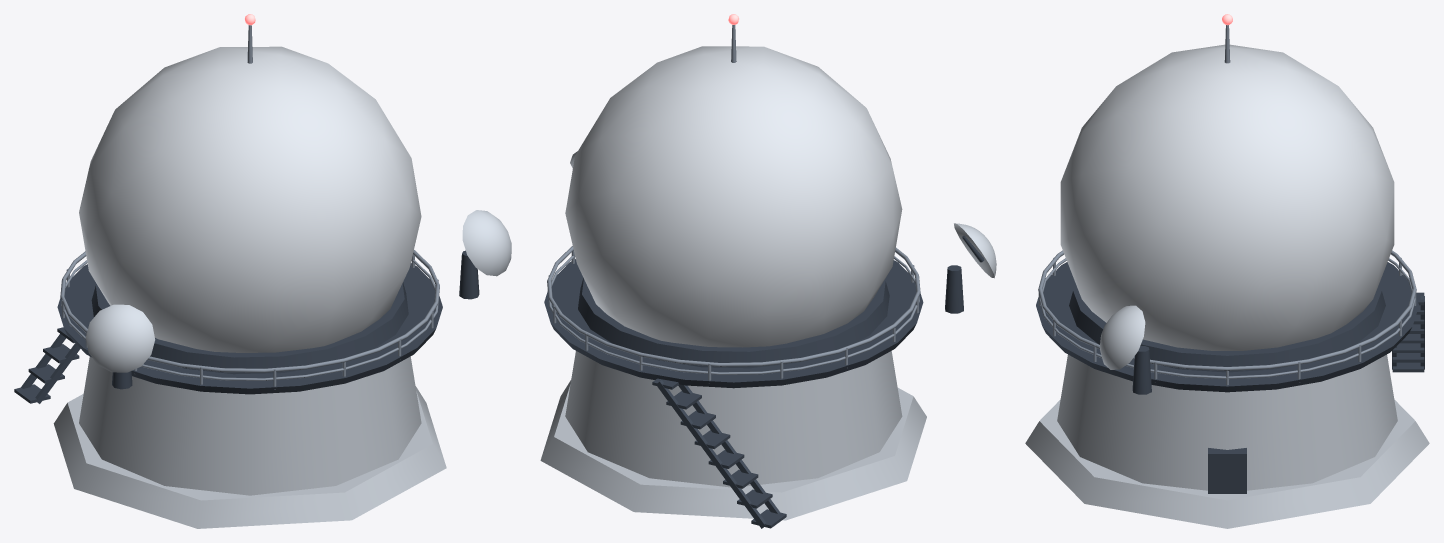
Rendered from tracking_radome.glb.
3 views of the same model, side by side, from view 1: azimuth 30°, elevation 25°; view 2: azimuth 150°, elevation 25°; view 3: azimuth 270°, elevation 25° (orthographic).
Parts seen in each view (by area): view 1: TrackingRadomeStation_GeodesicCompositeFiberglass, TrackingRadomeStation_RadomePedestalConcrete, TrackingRadomeStation_RadomeSteelWork, TrackingRadomeStation_TelemetryDishWhite, TrackingRadomeStation_CatwalkRailSteel; view 2: TrackingRadomeStation_GeodesicCompositeFiberglass, TrackingRadomeStation_RadomePedestalConcrete, TrackingRadomeStation_RadomeSteelWork, TrackingRadomeStation_CatwalkRailSteel, TrackingRadomeStation_TelemetryDishWhite; view 3: TrackingRadomeStation_GeodesicCompositeFiberglass, TrackingRadomeStation_RadomePedestalConcrete, TrackingRadomeStation_RadomeSteelWork, TrackingRadomeStation_CatwalkRailSteel, TrackingRadomeStation_TelemetryDishWhite.
Part boxes in pixels (left/top/right/bottom): TrackingRadomeStation_GeodesicCompositeFiberglass: left=79, top=46, right=421, bottom=352; TrackingRadomeStation_RadomePedestalConcrete: left=53, top=356, right=446, bottom=528; TrackingRadomeStation_RadomeSteelWork: left=14, top=250, right=479, bottom=403; TrackingRadomeStation_TelemetryDishWhite: left=85, top=210, right=511, bottom=372; TrackingRadomeStation_CatwalkRailSteel: left=60, top=25, right=439, bottom=389; TrackingRadomeStation_GeodesicCompositeFiberglass: left=565, top=46, right=902, bottom=347; TrackingRadomeStation_RadomePedestalConcrete: left=540, top=351, right=926, bottom=520; TrackingRadomeStation_RadomeSteelWork: left=544, top=235, right=984, bottom=528; TrackingRadomeStation_CatwalkRailSteel: left=547, top=25, right=920, bottom=383; TrackingRadomeStation_TelemetryDishWhite: left=570, top=151, right=996, bottom=278; TrackingRadomeStation_GeodesicCompositeFiberglass: left=1060, top=44, right=1394, bottom=350; TrackingRadomeStation_RadomePedestalConcrete: left=1025, top=354, right=1429, bottom=528; TrackingRadomeStation_RadomeSteelWork: left=1036, top=262, right=1424, bottom=493; TrackingRadomeStation_CatwalkRailSteel: left=1038, top=25, right=1416, bottom=385; TrackingRadomeStation_TelemetryDishWhite: left=1099, top=305, right=1145, bottom=369.
Size of the model in its own units: 27.47 by 26.67 by 22.8.
